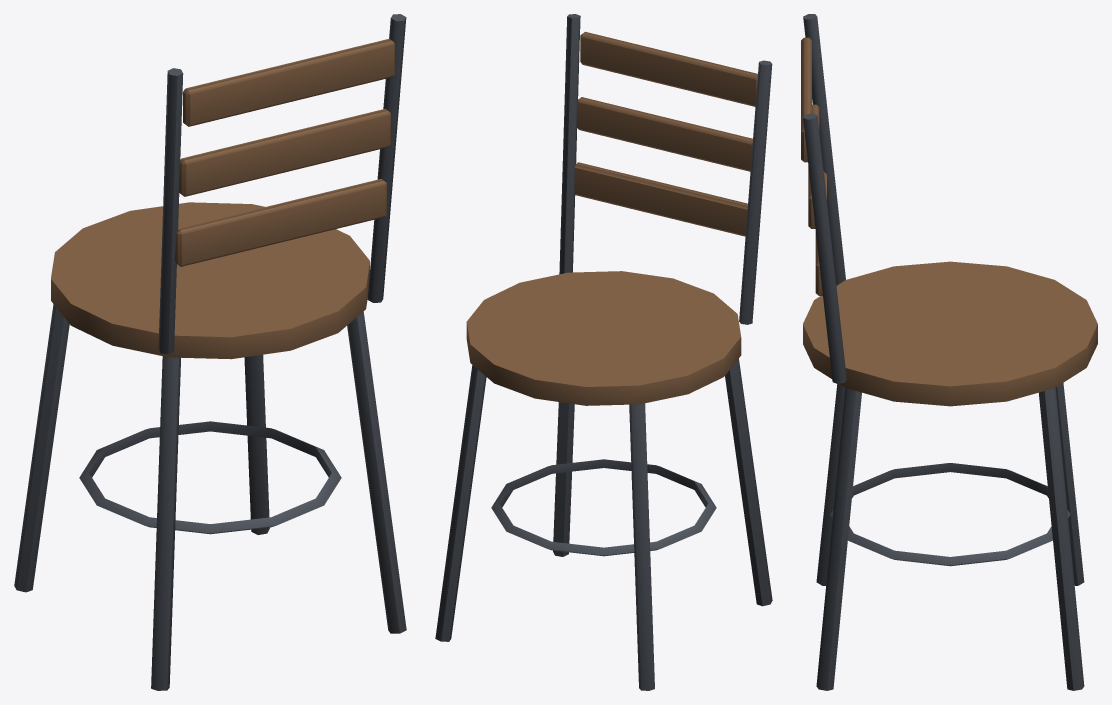
The model's file is ck_bistro_chair.fbx.
The picture shows the model from 3 angles, left to right: view 1: azimuth 30°, elevation 25°; view 2: azimuth 150°, elevation 25°; view 3: azimuth 270°, elevation 25°; orthographic projection. The views are drawn at different scales.
Parts seen in each view (by area): view 1: ck_bistro_chair; view 2: ck_bistro_chair; view 3: ck_bistro_chair.
Part boxes in pixels (x1,y1,x2,y2): ck_bistro_chair: (14,14,406,690); ck_bistro_chair: (435,14,772,690); ck_bistro_chair: (801,14,1097,690).
Bounding box in the file's own units: 127 × 270 × 127.
